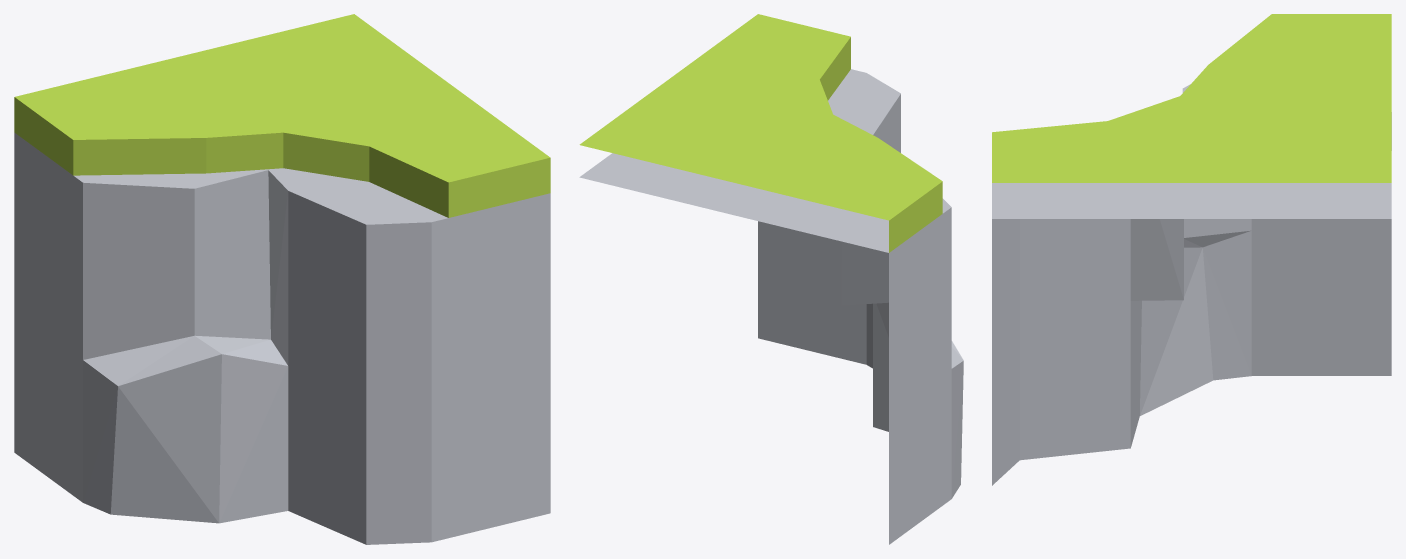
Rendered from edge_three.gltf.
The picture shows the model from 3 angles, left to right: view 1: azimuth 30°, elevation 25°; view 2: azimuth 150°, elevation 25°; view 3: azimuth 270°, elevation 25°; orthographic projection. The views are drawn at different scales.
Visible parts, largest first — view 1: EdgeThreeBot, EdgeThreeTop; view 2: EdgeThreeBot, EdgeThreeTop; view 3: EdgeThreeBot, EdgeThreeTop.
Part boxes in pixels (left/top/right/bottom): EdgeThreeBot: left=14, top=132, right=550, bottom=544; EdgeThreeTop: left=14, top=14, right=550, bottom=217; EdgeThreeBot: left=579, top=69, right=963, bottom=544; EdgeThreeTop: left=579, top=14, right=942, bottom=252; EdgeThreeBot: left=992, top=84, right=1391, bottom=485; EdgeThreeTop: left=992, top=14, right=1391, bottom=182.
Size of the model in its own units: 1 by 1 by 1.
